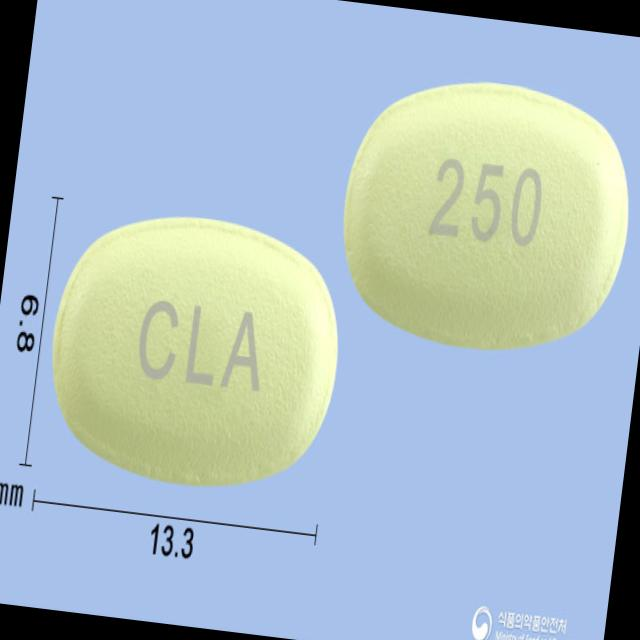Clar - 500mg: (34, 188, 359, 506), (325, 57, 640, 368)
